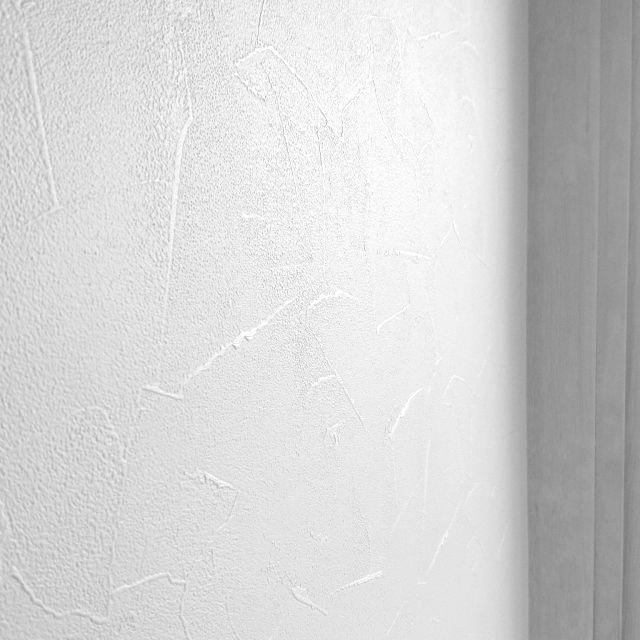trowels marks: (0, 0, 492, 640)
